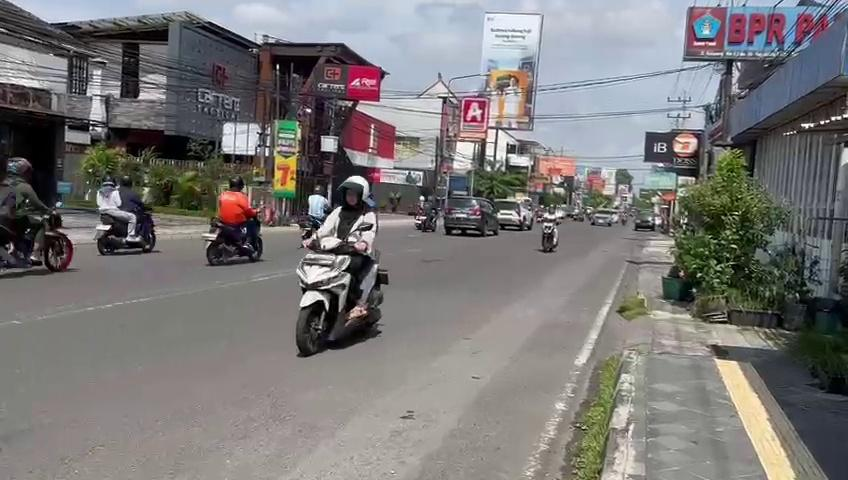helm: (332, 171, 373, 209)
riding: (287, 171, 399, 365)
